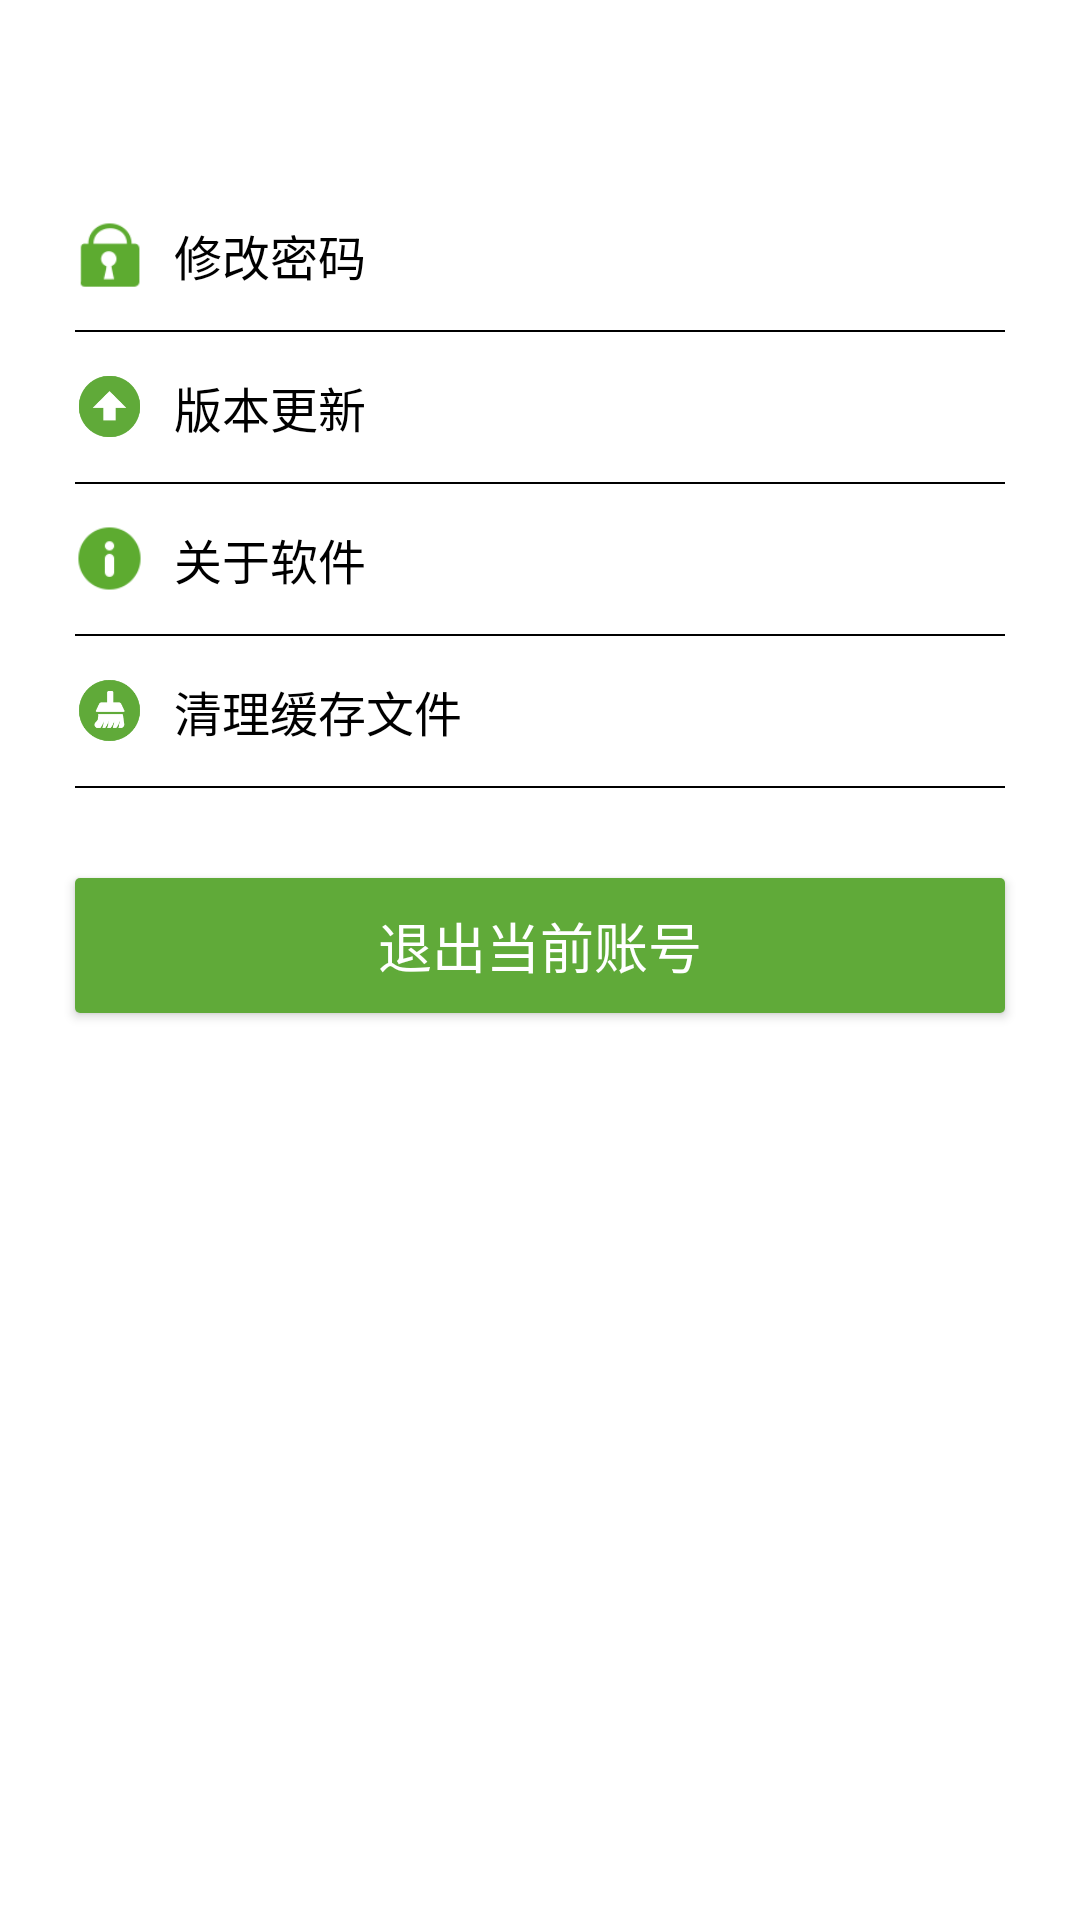

Icon bounding boxes for this 1080px x 1920px phone screenshot, format (x1, y1, x2, y2):
about app: (78, 527, 141, 590)
clear cache: (79, 680, 140, 741)
fix psd: (80, 223, 140, 287)
update: (79, 376, 140, 437)
